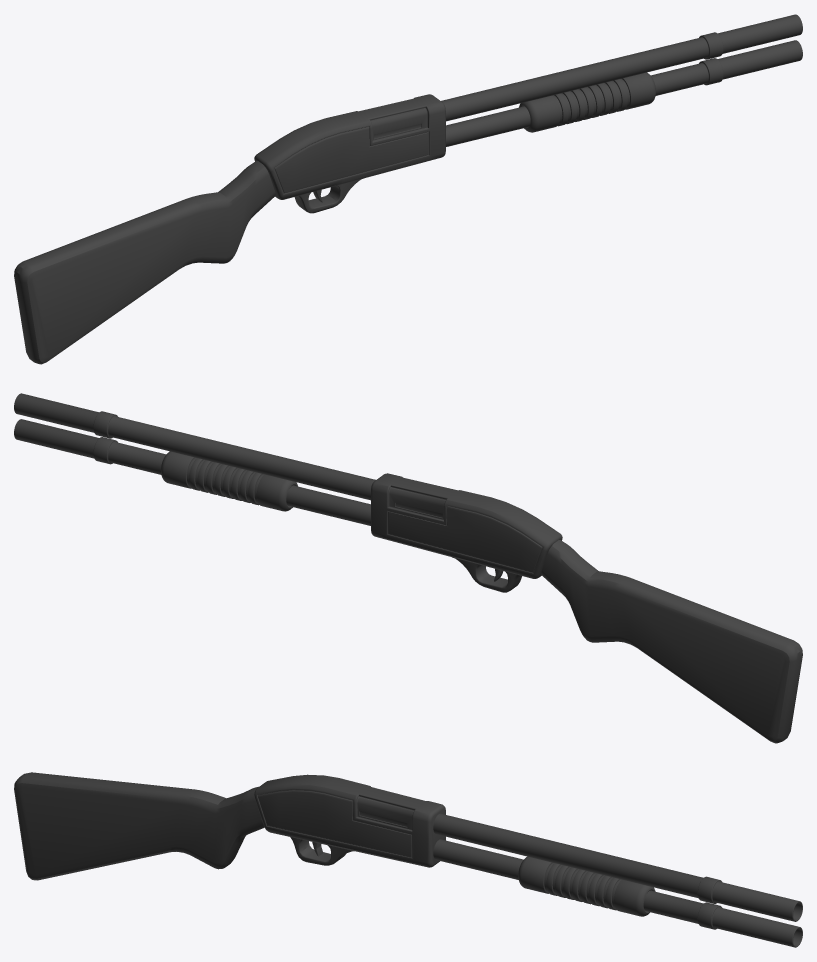
File: shotgun_.fbx
The picture shows the model from 3 angles, top to bottom: view 1: azimuth 30°, elevation 25°; view 2: azimuth 150°, elevation 25°; view 3: azimuth 330°, elevation 25°; orthographic projection.
Parts seen in each view (by area): view 1: Cube.037, Cylinder.012; view 2: Cube.037, Cylinder.012; view 3: Cube.037, Cylinder.012.
Boxes of the visible parts, box(x1,y1,x2,y2) form: Cube.037: box(14, 14, 802, 364); Cylinder.012: box(519, 72, 655, 132); Cube.037: box(14, 393, 802, 743); Cylinder.012: box(161, 451, 297, 511); Cube.037: box(14, 772, 802, 947); Cylinder.012: box(518, 856, 655, 916).
Size of the model in its own units: 317 by 65.25 by 12.16.
Materials: 1 (1 with a texture image).
